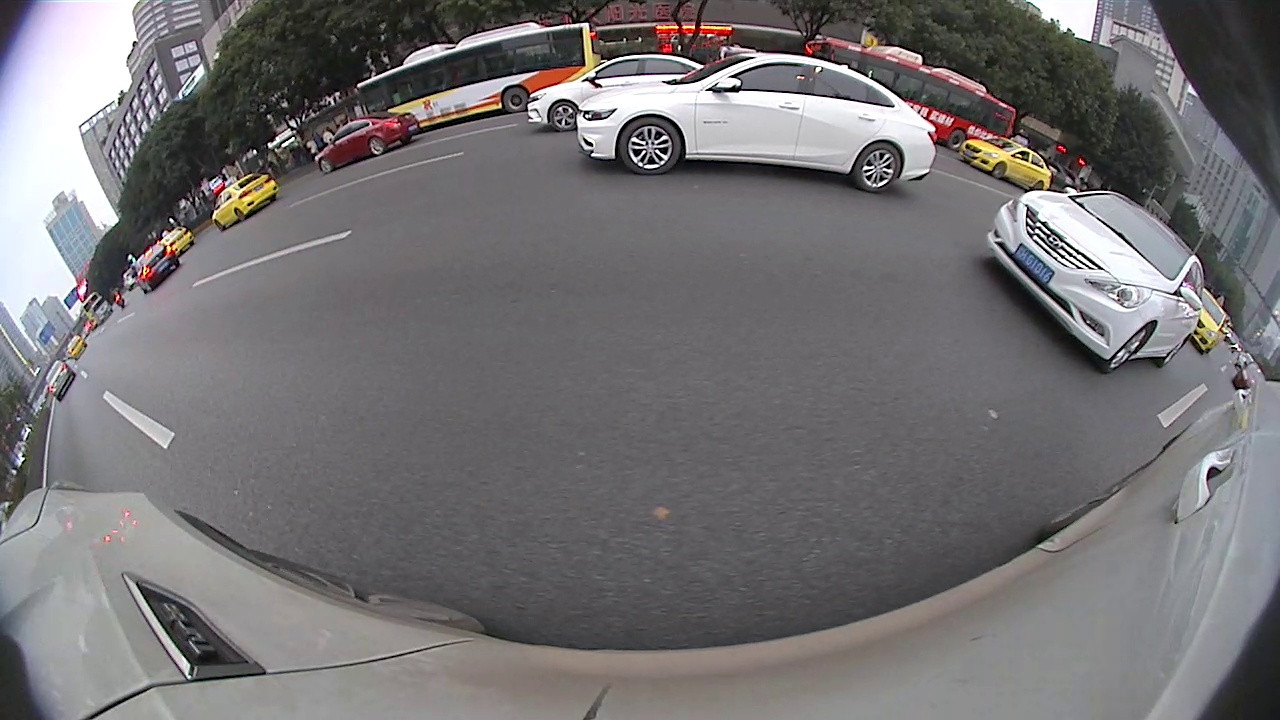bus: (358, 22, 601, 130), (804, 37, 1013, 152)
car: (577, 52, 938, 194), (985, 190, 1205, 375), (526, 55, 707, 132), (314, 112, 421, 175), (958, 136, 1052, 192), (211, 171, 280, 233), (1185, 287, 1231, 356), (134, 242, 180, 294), (45, 358, 76, 403)
front: (619, 118, 678, 173), (1101, 326, 1155, 371), (549, 101, 577, 130), (991, 164, 1006, 180), (320, 159, 332, 171)
rear: (853, 143, 901, 191), (1162, 337, 1188, 366), (503, 90, 528, 111), (947, 129, 965, 149), (369, 136, 383, 155)
